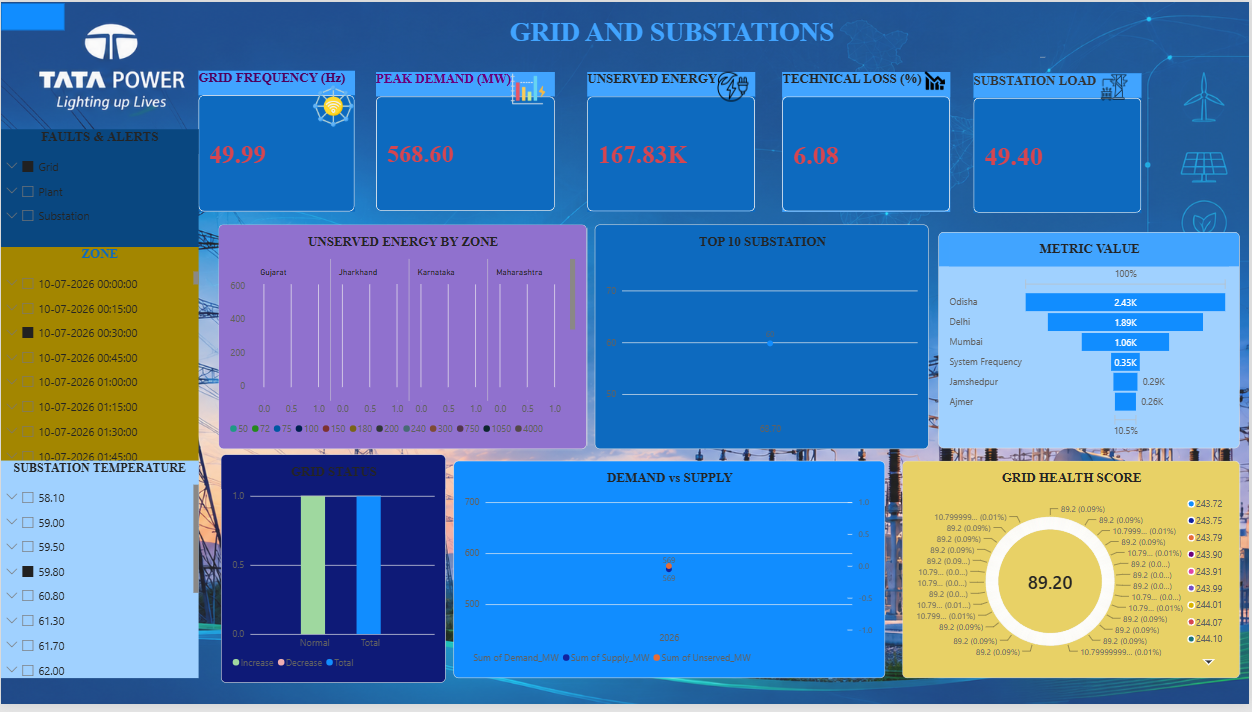

This screenshot's page, from the dashboard's own definition file:
{"tool":"powerbi","page":{"name":"GRID & SUBSTATIONS","canvas":[1920,1080],"ordinal":1},"visuals":[{"type":"lineChart","title":"DEMAND vs SUPPLY","fields":{"Category":["Fact_Grid_Live.Timestamp.Variation.Date Hierarchy.Year","Fact_Grid_Live.Timestamp.Variation.Date Hierarchy.Quarter","Fact_Grid_Live.Timestamp.Variation.Date Hierarchy.Month","Fact_Grid_Live.Timestamp.Variation.Date Hierarchy.Day"],"Y":["Sum(Fact_Grid_Live.Demand_MW)","Sum(Fact_Grid_Live.Supply_MW)"],"Y2":["Sum(Fact_Grid_Live.Unserved_MW)"]},"box":[696.7,705.8,664.1,334.8],"z":0},{"type":"textbox","title":"GRID AND SUBSTATIONS","box":[457.8,23.5,1149,62.7],"z":1000},{"type":"waterfallChart","title":"GRID STATUS","fields":{"Category":["Fact_Grid_Live.Grid_Status"],"Y":["CountNonNull(Fact_Grid_Live.Grid_Status)"]},"box":[338.4,696.7,345.6,351.1],"z":2000},{"type":"cardVisual","title":"GRID FREQUENCY (Hz)","fields":{"Data":["Fact_Grid_Live.Avg Frequency Hz"]},"box":[303.4,106.2,240.5,216.7],"z":3000},{"type":"cardVisual","title":"PEAK DEMAND (MW)","fields":{"Data":["Fact_Grid_Live.Peak Demand MW"]},"box":[576.4,108.4,275.2,214.5],"z":4000},{"type":"cardVisual","title":"UNSERVED ENERGY ","fields":{"Data":["Sum(Fact_Fleet_Live.Clean_Energy_Pct)"]},"box":[901.5,108.4,258,215],"z":5000},{"type":"cardVisual","title":"TECHNICAL LOSS (%)","fields":{"Data":["Fact_Grid_Live.Avg Technical Loss %"]},"box":[1202.7,108.4,258,215],"z":6000},{"type":"cardVisual","title":"SUBSTATION LOAD ","fields":{"Data":["Fact_Grid_Live.Avg Substation Load %"]},"box":[1495.3,110.5,258,215],"z":7000},{"type":"slicer","title":"FAULTS & ALERTS","fields":{"Values":["Fact_Alerts.Category","Fact_Alerts.Entity_Name","Fact_Alerts.Acknowledged","Fact_Alerts.Metric_Value","Fact_Alerts.Timestamp.Variation.Date Hierarchy.Year","Fact_Alerts.Timestamp.Variation.Date Hierarchy.Quarter","Fact_Alerts.Timestamp.Variation.Date Hierarchy.Month","Fact_Alerts.Timestamp.Variation.Date Hierarchy.Day"]},"box":[0,195.4,304,181],"z":8000},{"type":"slicer","title":"ZONE","fields":{"Values":["Fact_Grid_Live.Timestamp","Fact_Grid_Live.Power_Factor","Dim_Zone.Zone","Dim_Zone.State"]},"box":[0,376.4,304,329.4],"z":9000},{"type":"donutChart","title":"GRID HEALTH SCORE","fields":{"Category":["Fact_Fleet_Live.CO2_t"],"Y":["Fact_Grid_Live.Grid Health Score","Fact_Grid_Live.Health Remaining"]},"box":[1386.2,705.8,519.4,334.8],"z":10000},{"type":"areaChart","title":"TOP 10 SUBSTATION","fields":{"Category":["Fact_Substation_Health.SubstationID","Fact_Substation_Health.Load_Pct","Fact_Substation_Health.Oil_Temp_C"],"Y":["Avg(Fact_Substation_Health.Transformer_Temp_C)"]},"box":[913.9,342,513.9,345.6],"z":11000},{"type":"barChart","title":"UNSERVED ENERGY BY ZONE","fields":{"Category":["smart_energy_control tata_power_360_dataset.Temp_Limit_C"],"Rows":["smart_energy_control tata_power_360_dataset.State"],"Series":["smart_energy_control tata_power_360_dataset.Capacity_MW"],"Y":["Avg(Fact_Grid_Live.Unserved_MW)"]},"box":[334.8,342,566.4,345.6],"z":12000},{"type":"image","box":[479.6,124.9,65.1,70.6],"z":13000},{"type":"image","box":[769.1,105,83.2,56.1],"z":14000},{"type":"image","box":[1080.4,105,90.5,48.9],"z":15000},{"type":"image","box":[1673.9,108.6,79.6,47.1],"z":16000},{"type":"image","box":[1411.5,105,50.7,30.8],"z":17000},{"type":"slicer","title":"SUBSTATION TEMPERATURE ","fields":{"Values":["Fact_Substation_Health.Transformer_Temp_C","Fact_Substation_Health.Load_MVA","Fact_Substation_Health.Load_Pct","Fact_Substation_Health.Status","Fact_Substation_Health.Timestamp","Fact_Substation_Health.Tap_Position","Fact_Substation_Health.Fault_Flag"]},"box":[0,705.8,304,334.8],"z":18000},{"type":"funnel","title":"METRIC VALUE","fields":{"Category":["Fact_Alerts.Entity_Name","Fact_Alerts.Category"],"Y":["Sum(Fact_Alerts.Metric_Value)"]},"box":[1442.3,354.7,463.3,333],"z":19000},{"type":"shape","box":[0,1.8,97.7,41.6],"z":20000}]}

Visuals, with their boxes on the page's 1920x1080 design canvas (x1, y1, x2, y2). These are canvas units, not pixel positions in the 1252x712 screenshot, which may show the page scaled, cropped or inside an application window:
"DEMAND vs SUPPLY" lineChart: crop(697, 706, 1361, 1041)
"GRID AND SUBSTATIONS" textbox: crop(458, 24, 1607, 86)
"GRID STATUS" waterfallChart: crop(338, 697, 684, 1048)
"GRID FREQUENCY (Hz)" cardVisual: crop(303, 106, 544, 323)
"PEAK DEMAND (MW)" cardVisual: crop(576, 108, 852, 323)
"UNSERVED ENERGY " cardVisual: crop(902, 108, 1160, 323)
"TECHNICAL LOSS (%)" cardVisual: crop(1203, 108, 1461, 323)
"SUBSTATION LOAD " cardVisual: crop(1495, 110, 1753, 326)
"FAULTS & ALERTS" slicer: crop(0, 195, 304, 376)
"ZONE" slicer: crop(0, 376, 304, 706)
"GRID HEALTH SCORE" donutChart: crop(1386, 706, 1906, 1041)
"TOP 10 SUBSTATION" areaChart: crop(914, 342, 1428, 688)
"UNSERVED ENERGY BY ZONE" barChart: crop(335, 342, 901, 688)
image: crop(480, 125, 545, 196)
image: crop(769, 105, 852, 161)
image: crop(1080, 105, 1171, 154)
image: crop(1674, 109, 1754, 156)
image: crop(1412, 105, 1462, 136)
"SUBSTATION TEMPERATURE " slicer: crop(0, 706, 304, 1041)
"METRIC VALUE" funnel: crop(1442, 355, 1906, 688)
shape: crop(0, 2, 98, 43)
